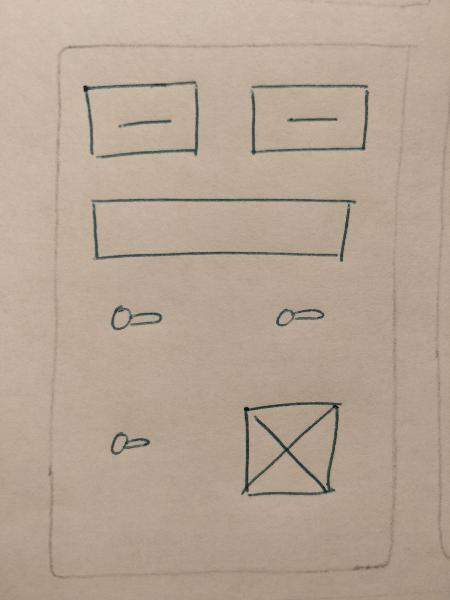button: (237, 71, 376, 170), (75, 72, 208, 164)
image: (233, 393, 349, 507)
switch: (92, 291, 179, 338)
text_input: (78, 184, 361, 272), (253, 299, 337, 336), (101, 417, 158, 464)
